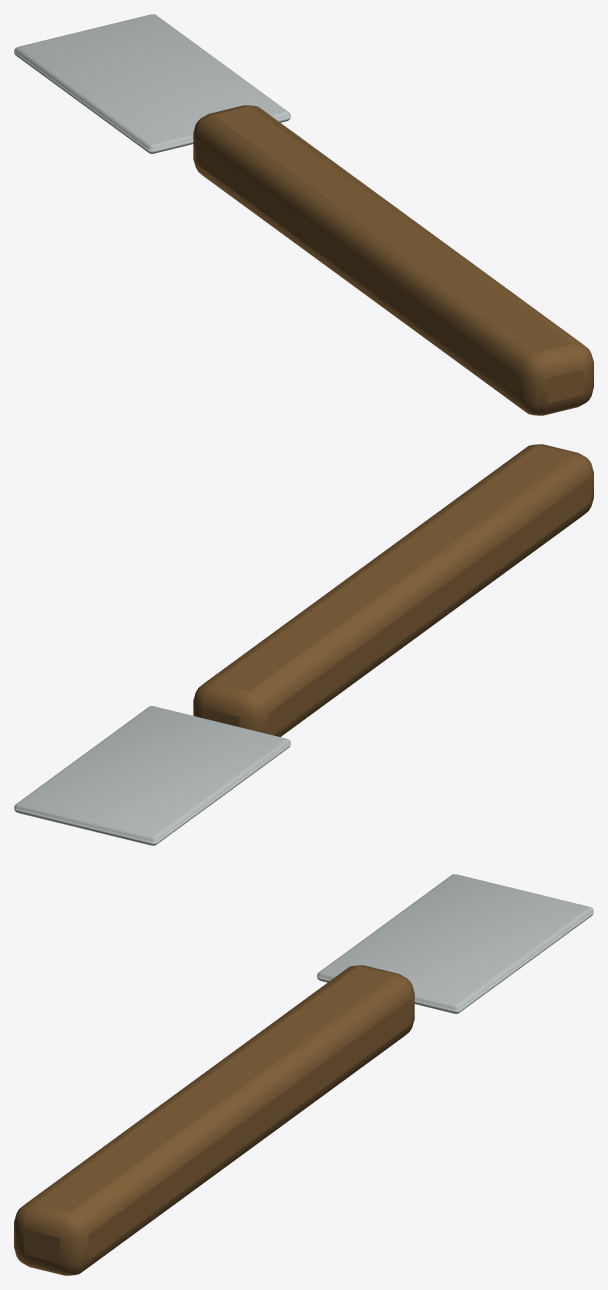
The model's file is dao_lam.glb.
3 views of the same model, one above another, from view 1: azimuth 30°, elevation 25°; view 2: azimuth 150°, elevation 25°; view 3: azimuth 330°, elevation 25° (orthographic).
Visible parts, largest first — view 1: dao_lam; view 2: dao_lam; view 3: dao_lam.
Boxes of the visible parts, bbox=[...] form: dao_lam: bbox=[14, 14, 593, 415]; dao_lam: bbox=[14, 444, 593, 845]; dao_lam: bbox=[14, 874, 593, 1275].
Size of the model in its own units: 0.024 by 0.01 by 0.14.
